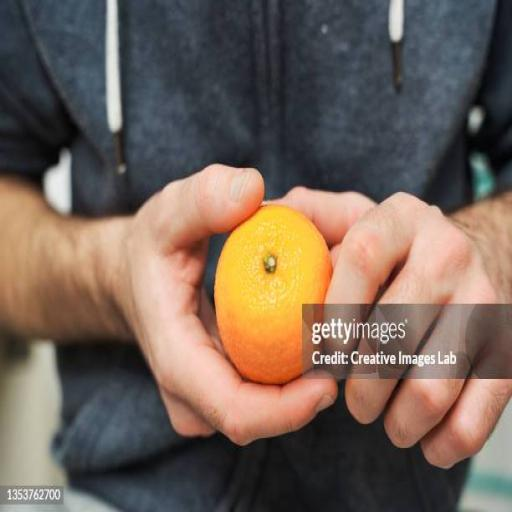orange: (216, 205, 332, 383)
